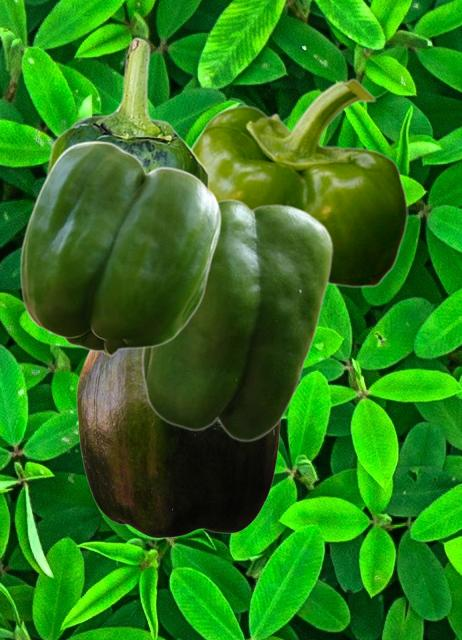bell_pepper: (141, 198, 333, 441), (191, 78, 407, 290), (19, 140, 220, 355), (76, 350, 280, 537), (41, 36, 208, 186)
